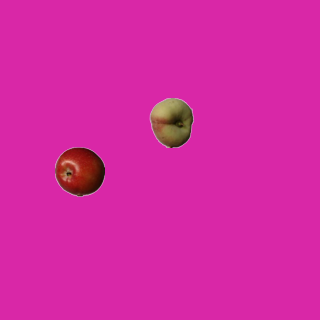Apple Braeburn: (54, 146, 104, 196)
Peach Flat: (146, 97, 196, 147)
